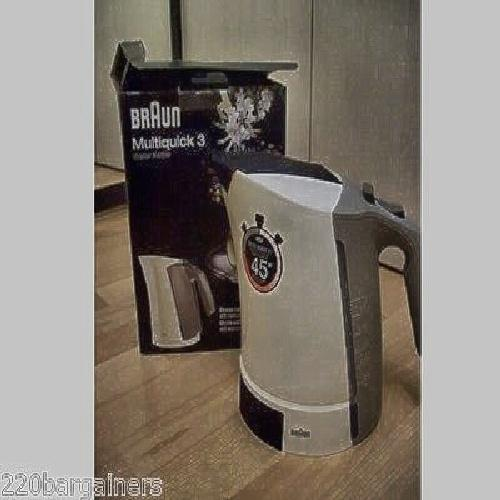kettle: (218, 153, 393, 457)
